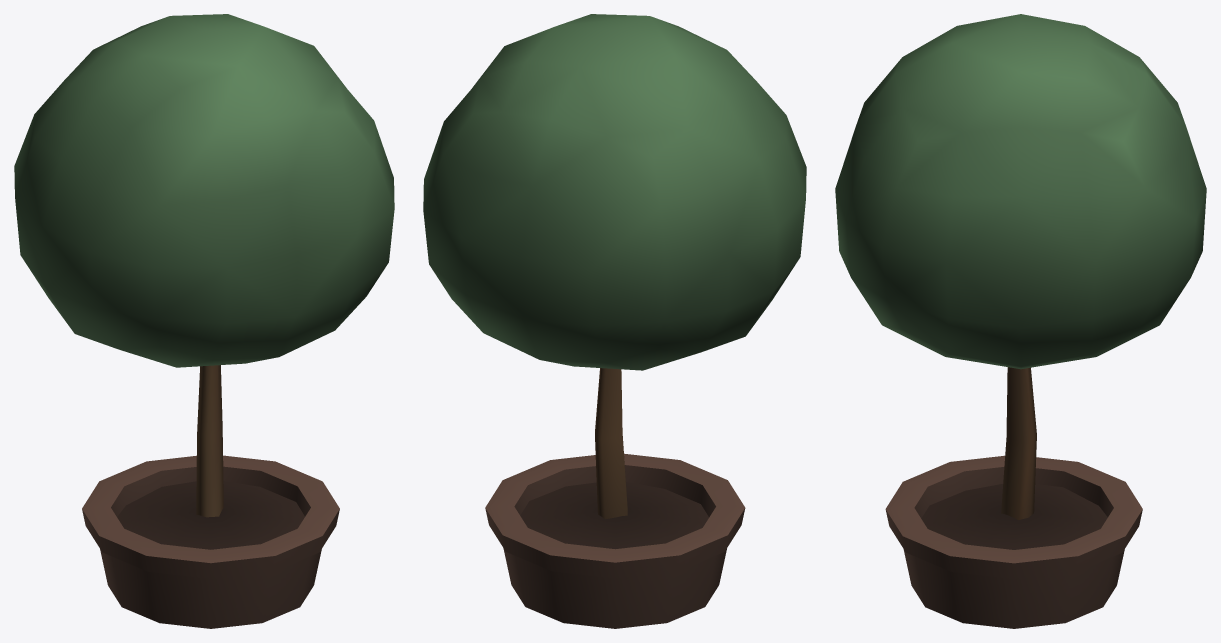
Rendered from trees-plants-saplings-potted-tree_v1.fbx.
The picture shows the model from 3 angles, left to right: view 1: azimuth 30°, elevation 25°; view 2: azimuth 150°, elevation 25°; view 3: azimuth 270°, elevation 25°; orthographic projection.
Parts seen in each view (by area): view 1: Potted Tree; view 2: Potted Tree; view 3: Potted Tree.
Part boxes in pixels (<box>): Potted Tree: <box>14,14,394,628</box>; Potted Tree: <box>423,14,806,628</box>; Potted Tree: <box>835,14,1206,628</box>.
Size of the model in its own units: 0.7327 by 1.2 by 0.7327.
